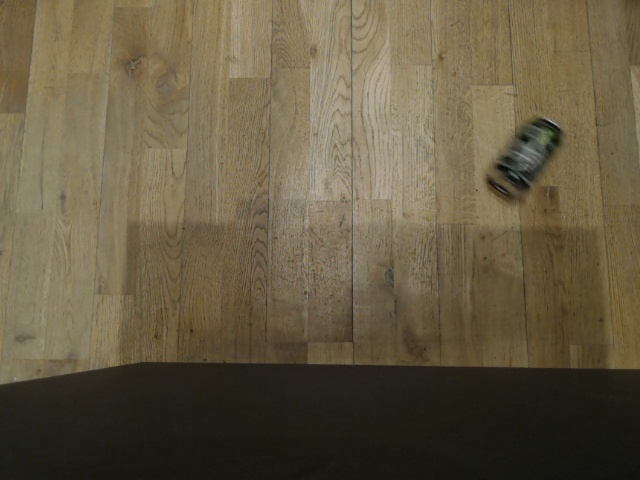beer: (484, 113, 565, 196)
